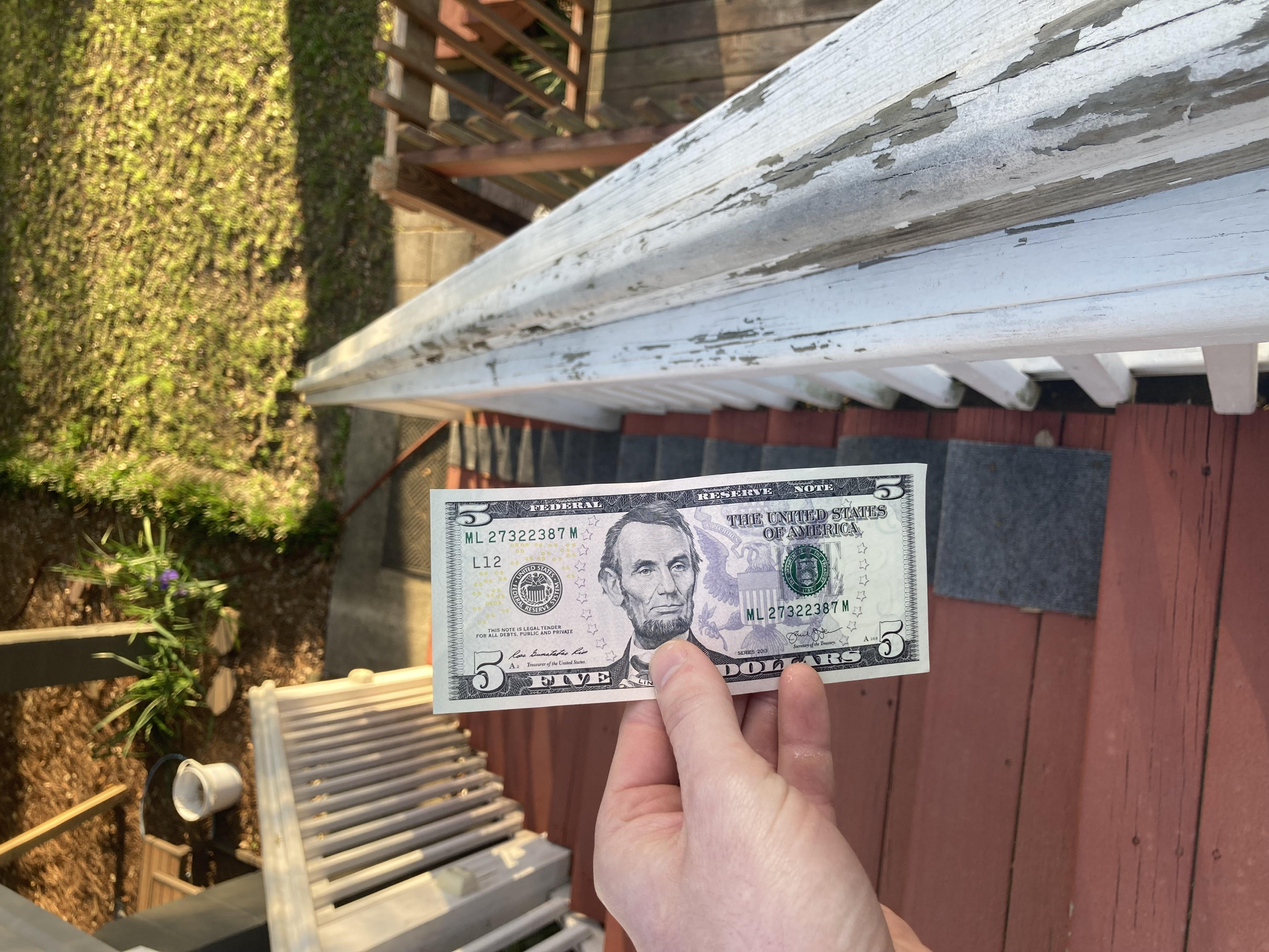five-front: (317, 323, 656, 696)
